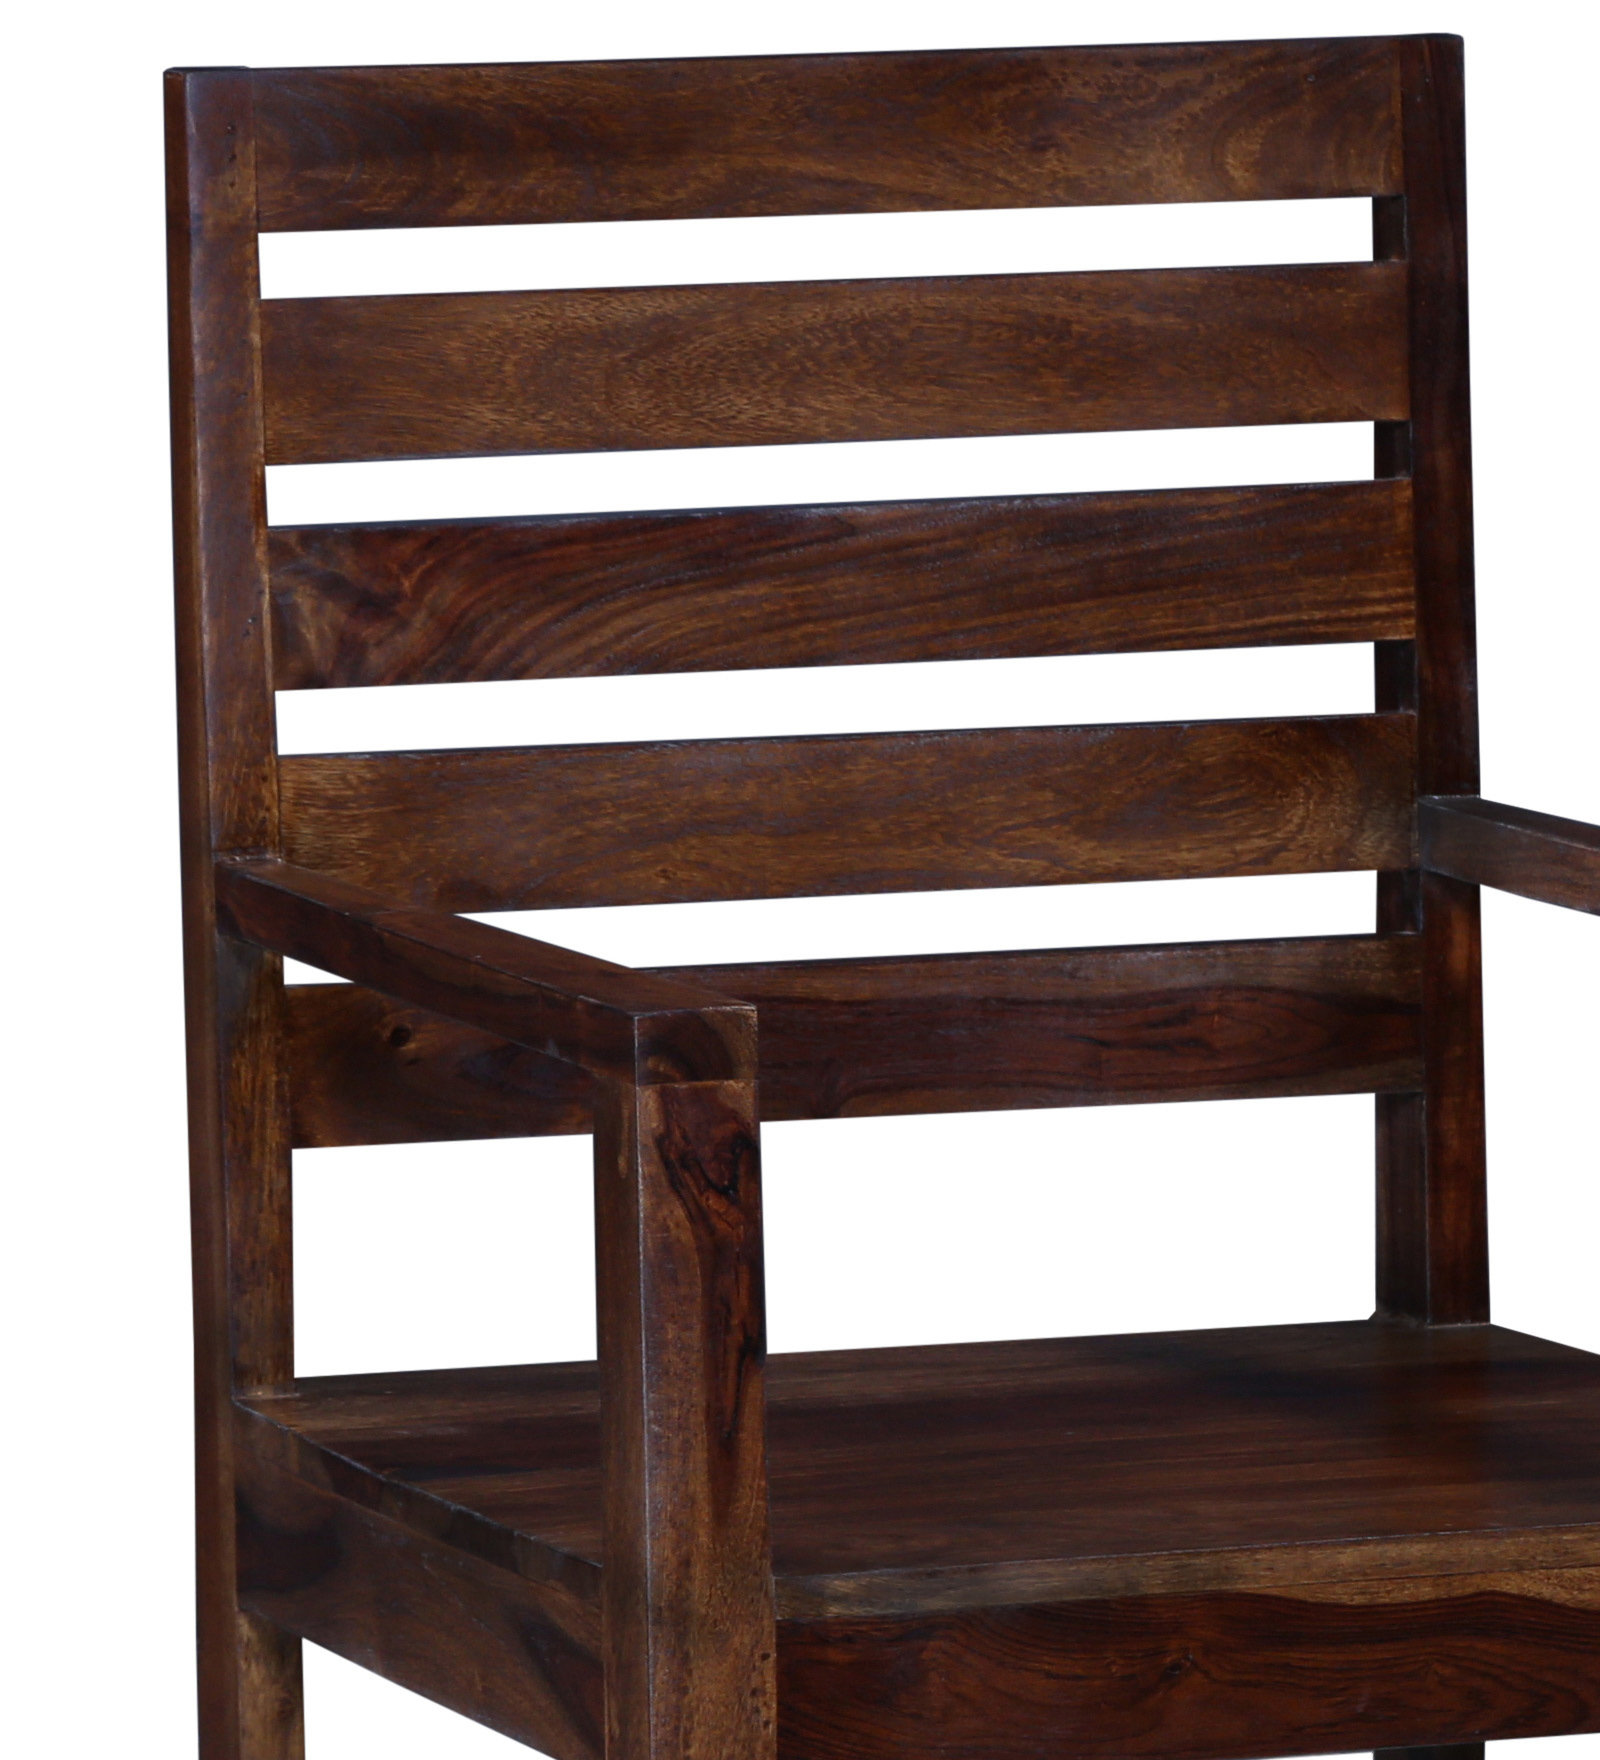Stigen Arm Chair in Provincial Teak Finish by Woodsworth: (110, 35, 1522, 1760)
